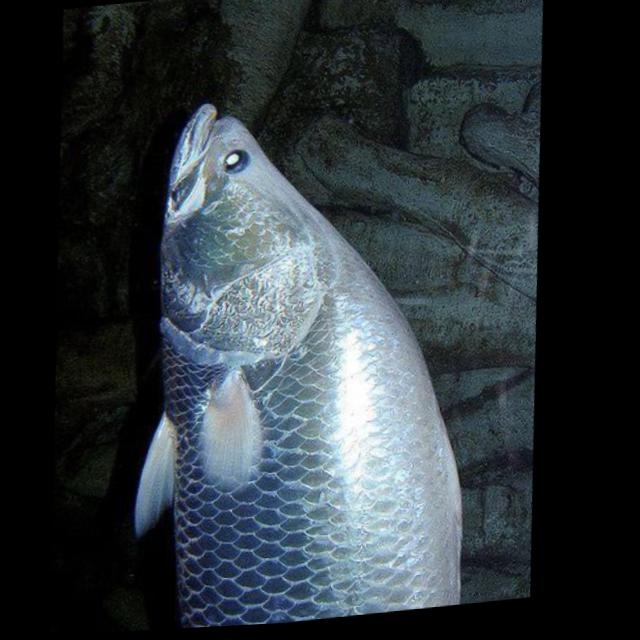Seabass: (101, 71, 504, 632)
